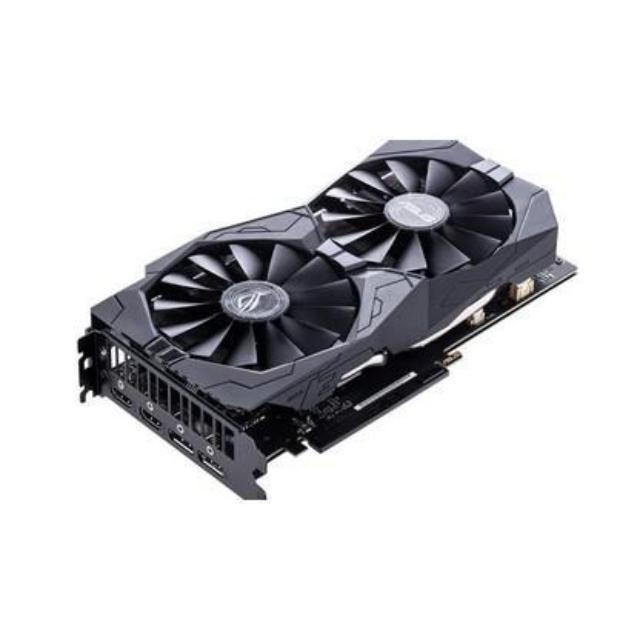GPU: (87, 123, 581, 455)
